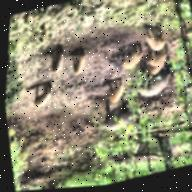boar: (136, 65, 184, 111), (110, 37, 150, 77), (29, 80, 67, 120), (102, 103, 138, 138), (67, 40, 98, 77), (46, 40, 72, 78), (101, 83, 129, 114), (147, 43, 175, 72), (147, 21, 169, 51), (151, 57, 173, 77)
